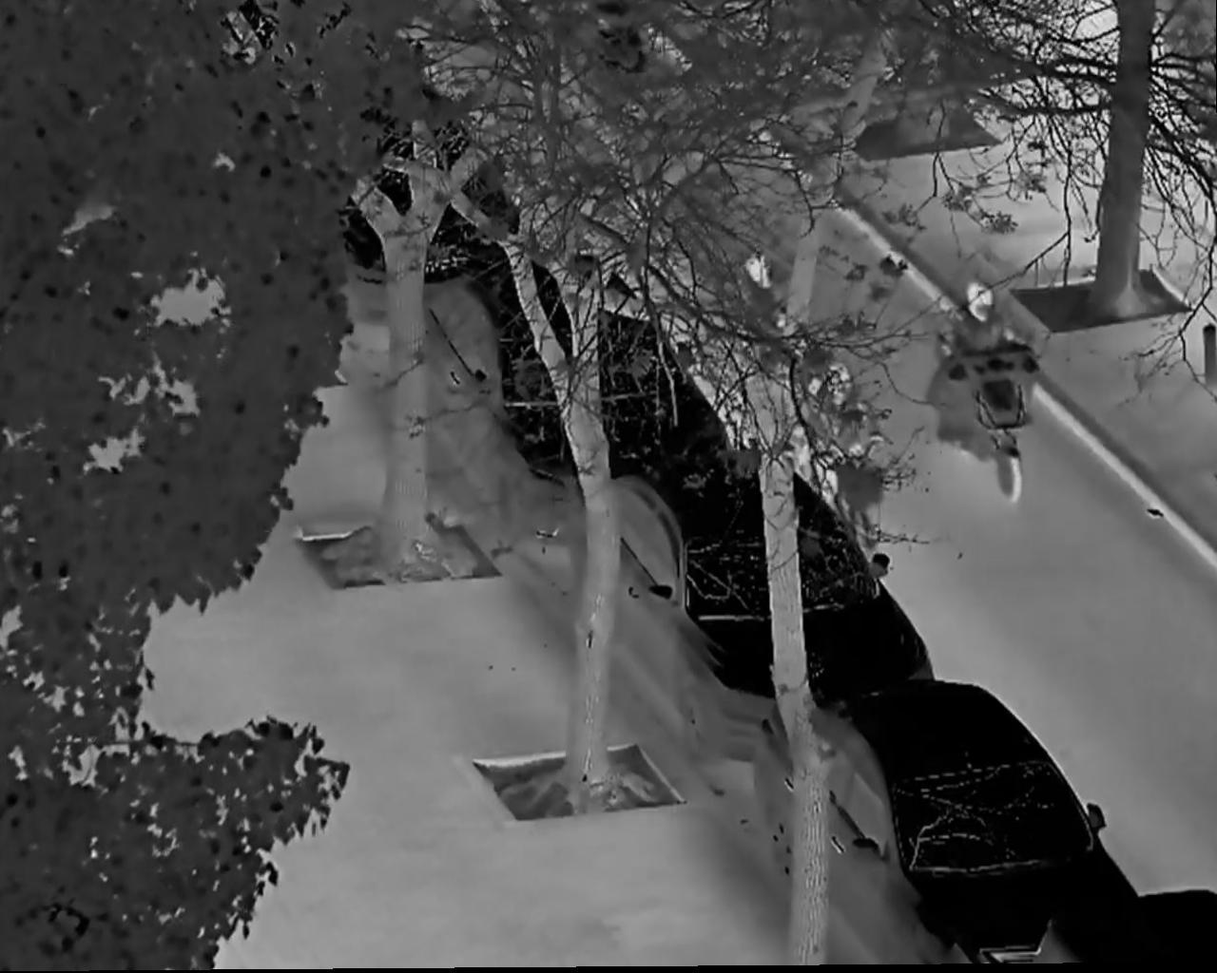person: (940, 283, 1029, 433)
